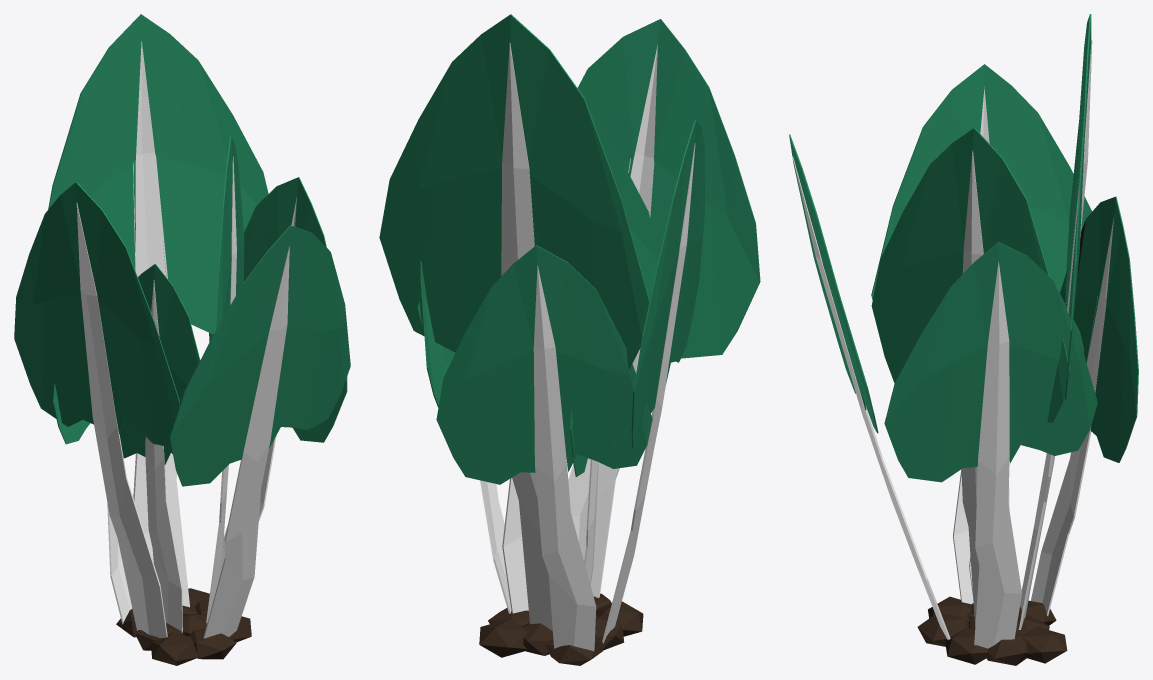
Rendered from Chard_4.fbx.
3 views of the same model, side by side, from view 1: azimuth 30°, elevation 25°; view 2: azimuth 150°, elevation 25°; view 3: azimuth 270°, elevation 25° (orthographic). The views are drawn at different scales.
Parts seen in each view (by area): view 1: 4_Chard; view 2: 4_Chard; view 3: 4_Chard.
Part boxes in pixels (x1,y1,x2,y2): 4_Chard: [14, 14, 350, 665]; 4_Chard: [379, 14, 760, 665]; 4_Chard: [789, 14, 1138, 665].
Bounding box in the file's own units: 25.11 × 57.48 × 28.9.
